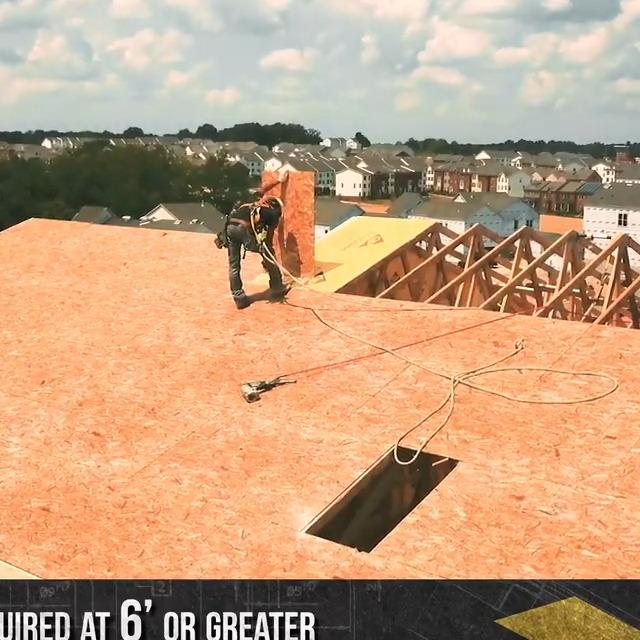Hardhat: (272, 198, 284, 217)
NO-Safety Vest: (230, 203, 272, 230)
Person: (227, 197, 291, 309)
